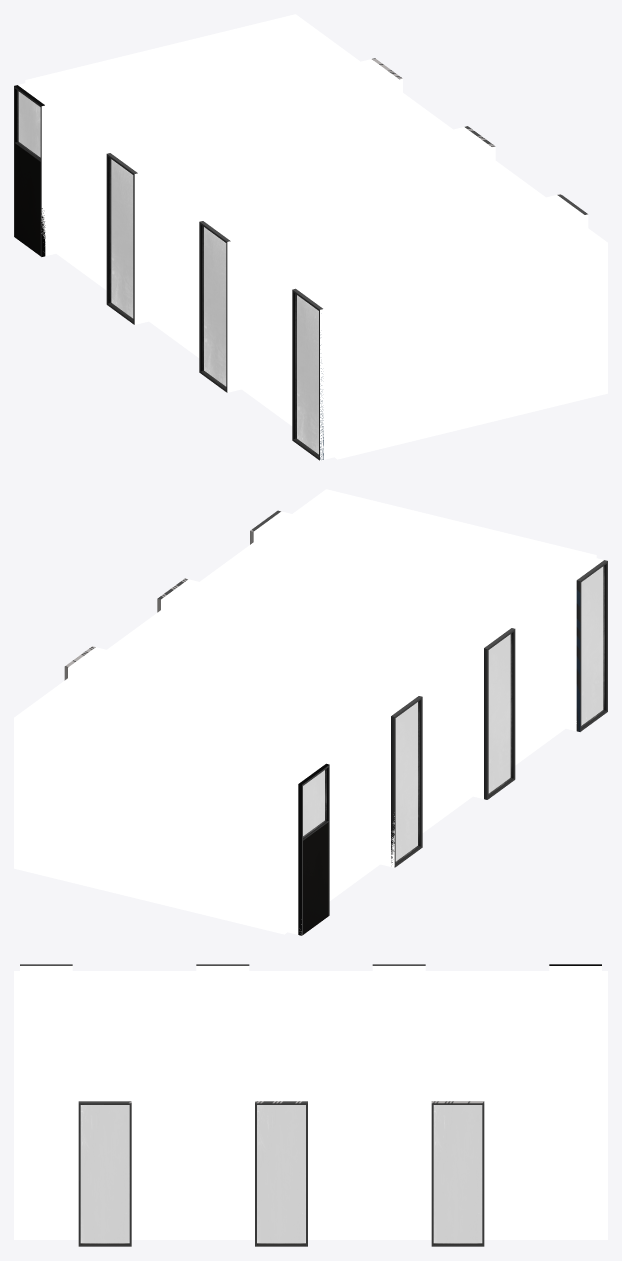
The model's file is half.glb.
3 renders of one model, top to bottom at view 1: azimuth 30°, elevation 25°; view 2: azimuth 150°, elevation 25°; view 3: azimuth 270°, elevation 25°, orthographic. The views are drawn at different scales.
Parts seen in each view (by area): view 1: floor, walls, paintiing, glass, details; view 2: floor, walls, glass, details; view 3: floor, walls, glass, details.
Boxes of the visible parts, x1,y1,x2,y2 form: floor: (25,14,607,445); walls: (18,59,607,460); paintiing: (382,300,562,418); glass: (17,90,318,455); details: (14,58,587,460); floor: (14,489,596,852); walls: (14,511,603,934); glass: (303,565,604,862); details: (64,510,607,935); floor: (14,971,607,1239); walls: (14,966,607,1243); glass: (80,1105,481,1243); details: (20,964,601,1246).
Bounding box in the file's own units: 5.97 × 2.88 × 10.79.
4 materials, 2 textured.
